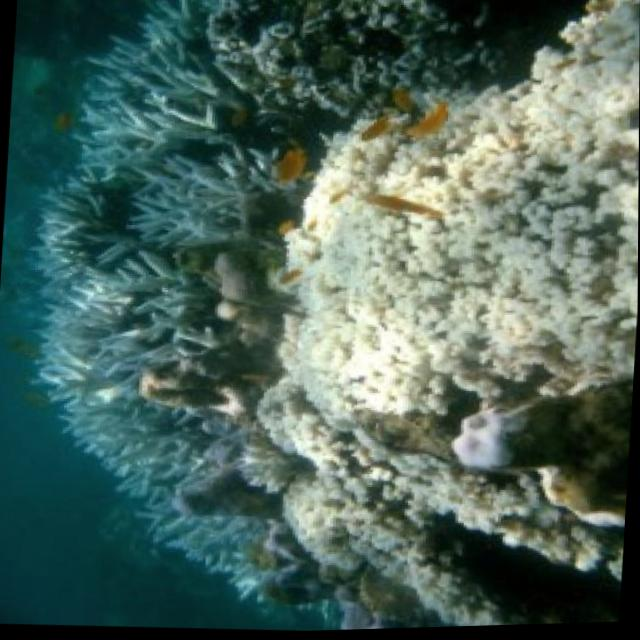Bleached Coral: (239, 0, 640, 634), (18, 0, 280, 576)
